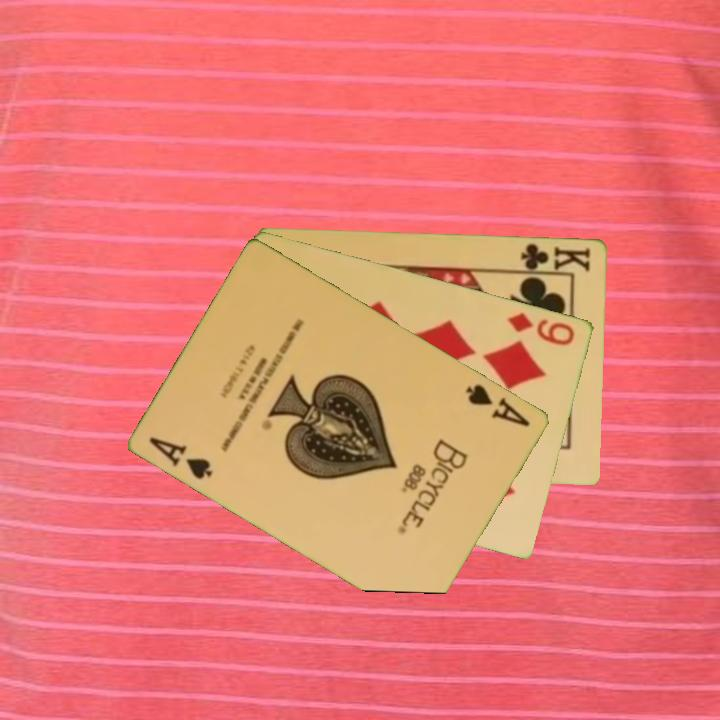9d: (504, 308, 578, 348)
As: (462, 380, 533, 430), (146, 433, 216, 483)
Kc: (513, 239, 594, 275)
